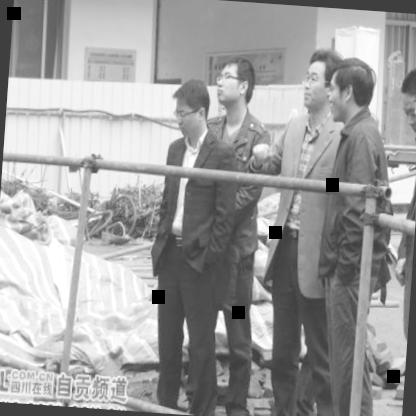head: (328, 56, 378, 124), (168, 75, 214, 144), (214, 53, 258, 113), (300, 46, 339, 112), (398, 58, 416, 131)
